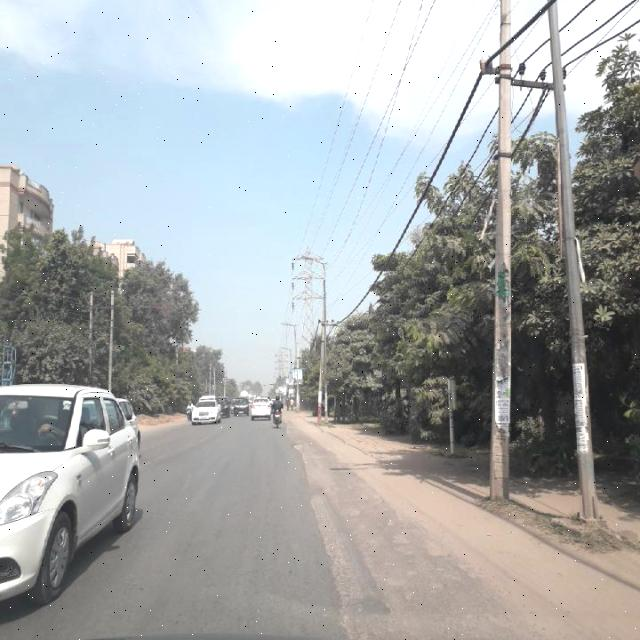D00: (316, 516, 350, 633), (289, 434, 319, 514)
D40: (292, 438, 310, 454)
